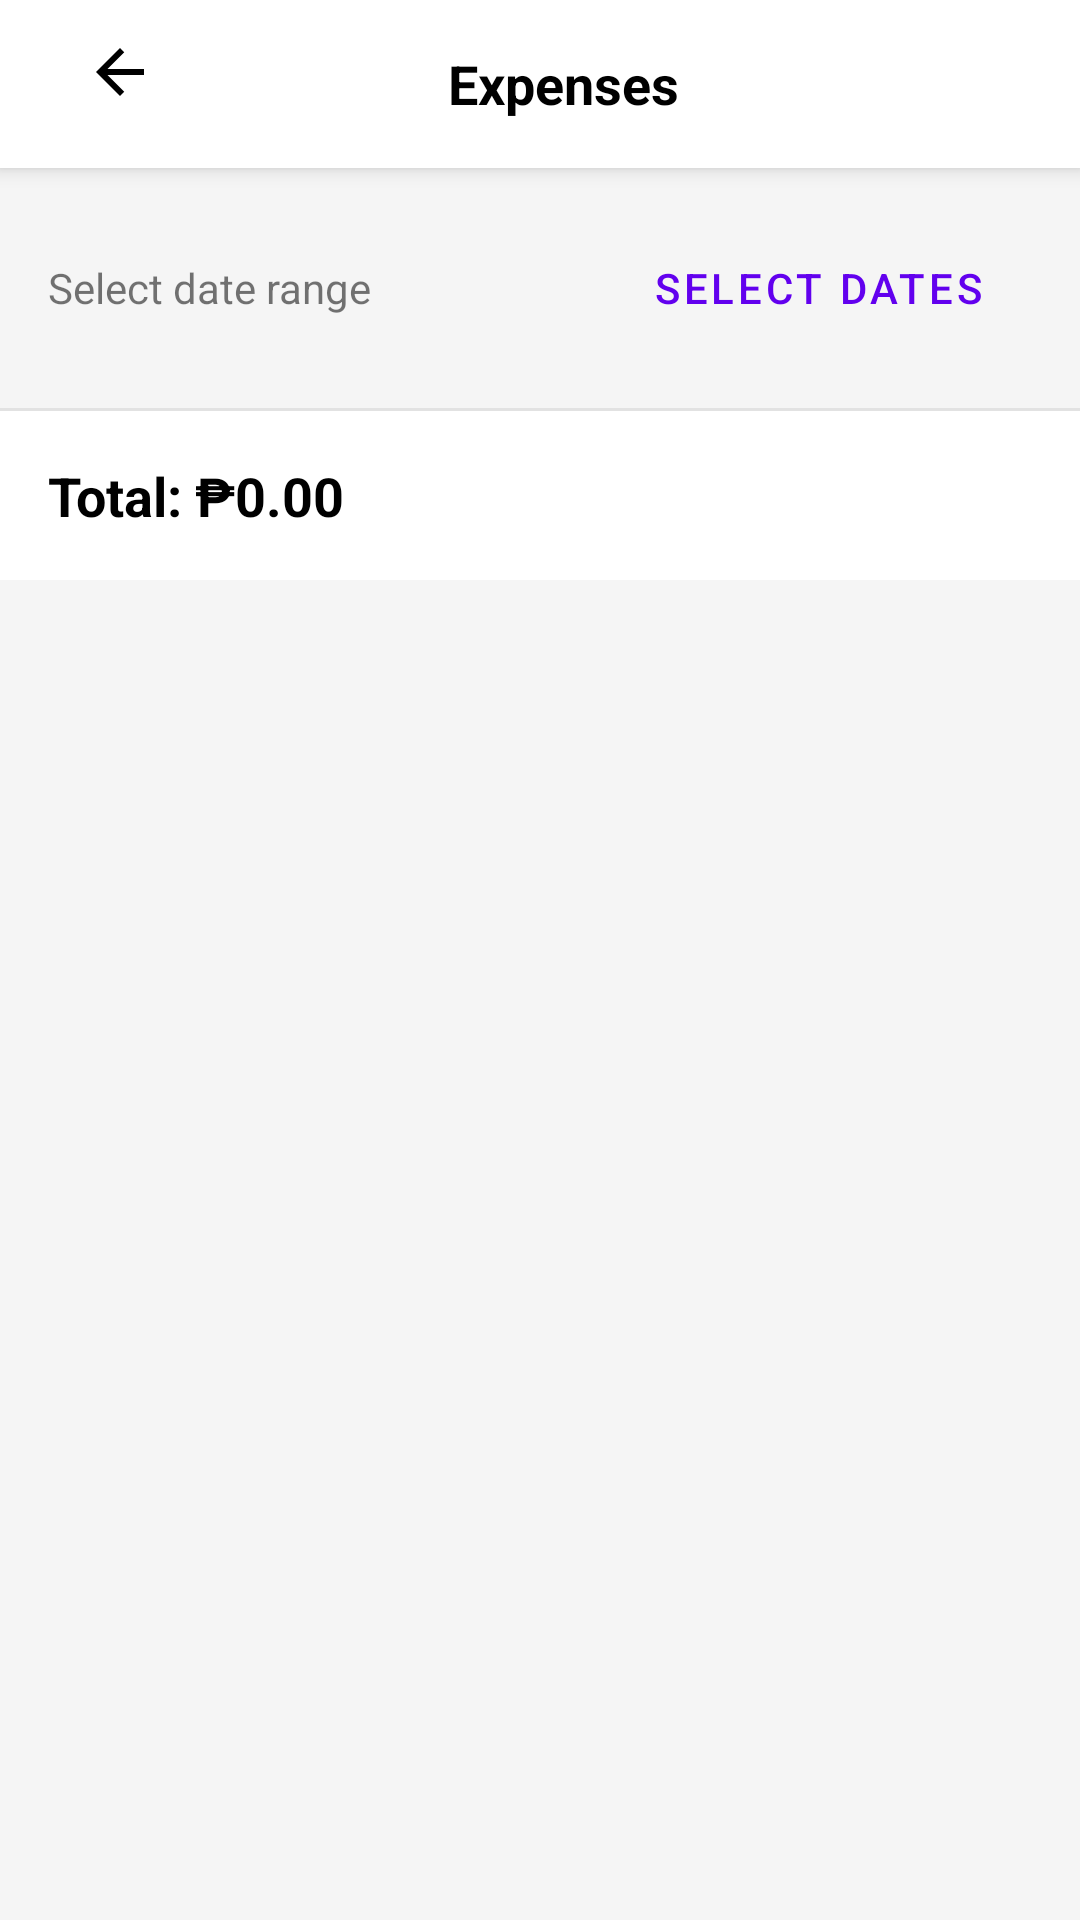

Screen size 1080×1920. Icon name, then its center in pixels as point (x, y):
arrow back: point (120, 72)
